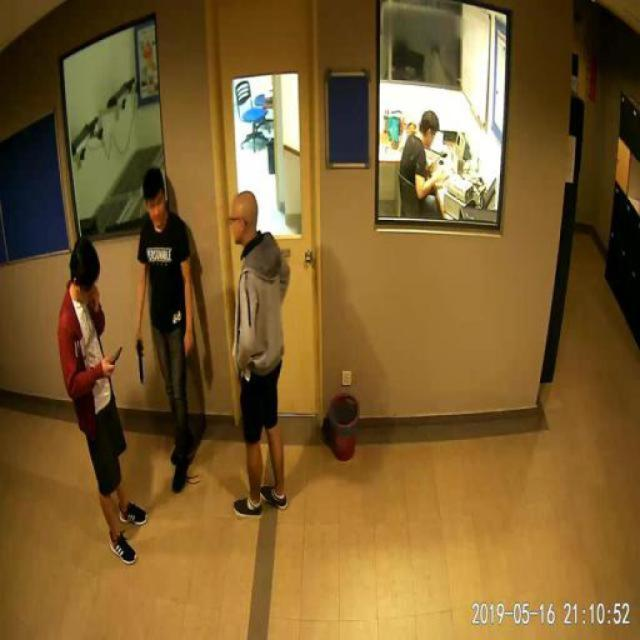pistol: (134, 334, 142, 382)
